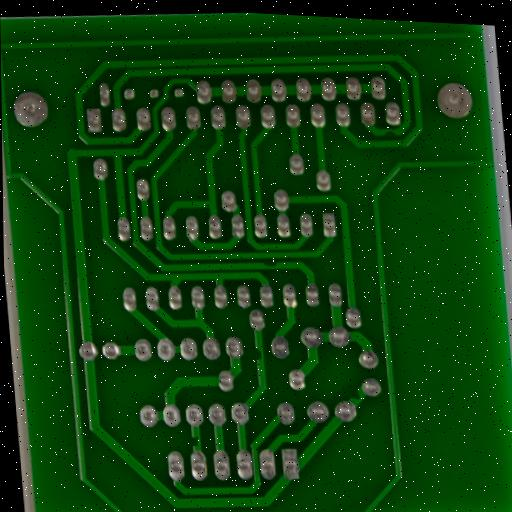mouse_bite: (258, 257, 281, 273), (347, 387, 366, 405), (250, 343, 267, 363), (381, 125, 400, 140), (187, 434, 203, 451)
